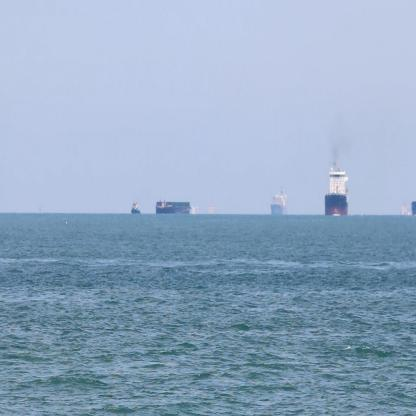Container Ship: (323, 156, 349, 219), (152, 197, 193, 217), (268, 184, 289, 219), (129, 192, 142, 217)
